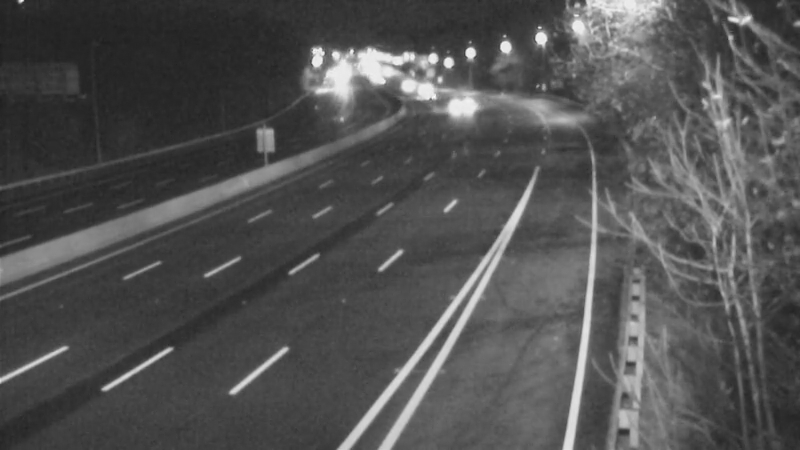vehicle: (381, 59, 431, 109), (396, 65, 446, 115), (412, 73, 462, 123), (435, 82, 485, 132)
